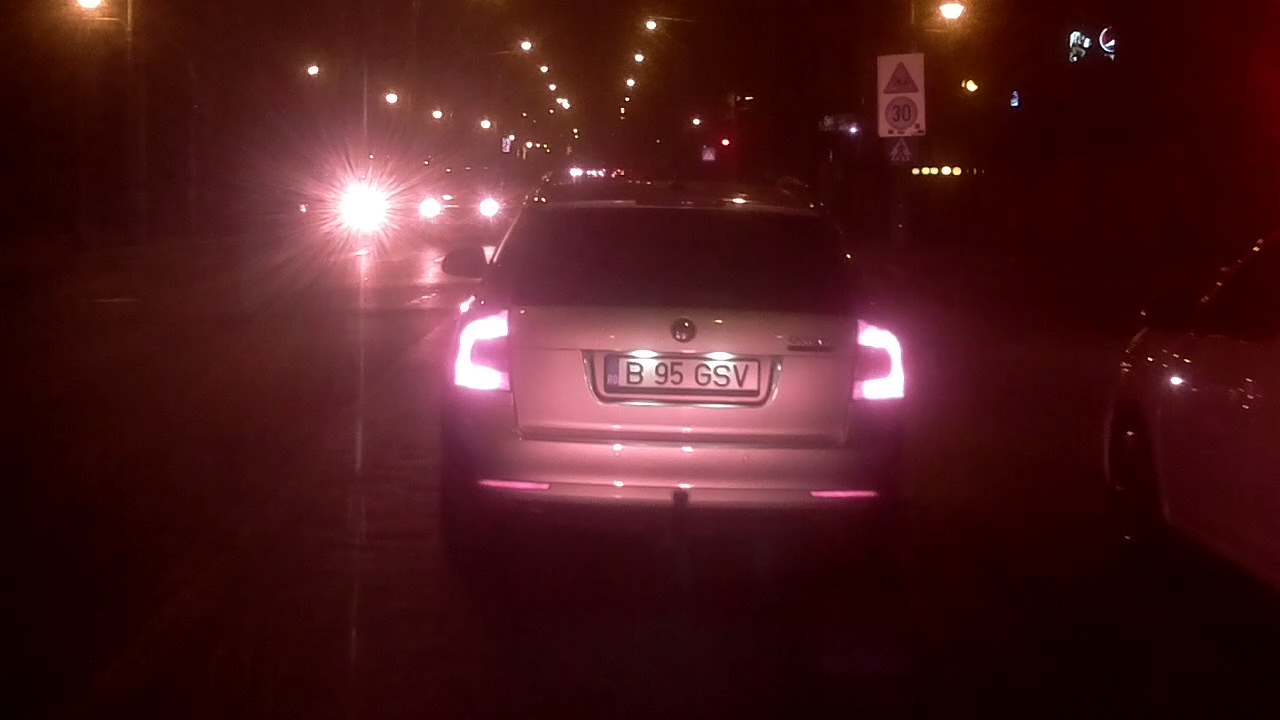license-plate: (599, 349, 765, 398)
